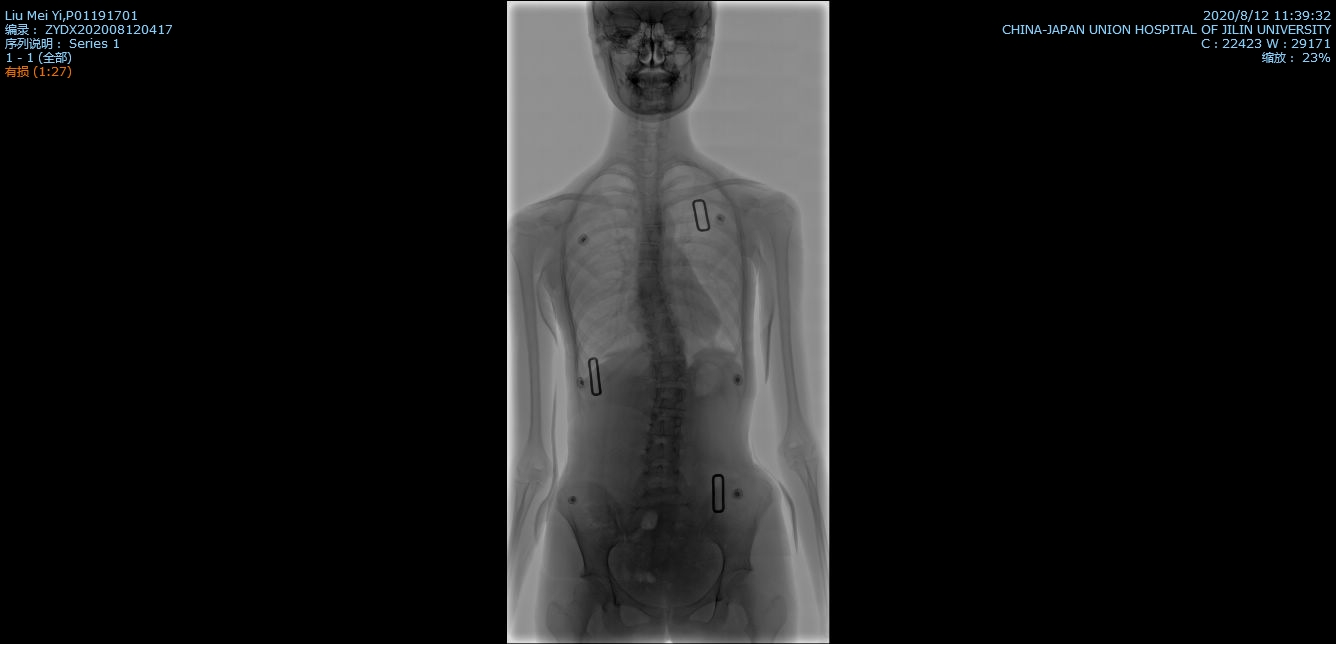Bone: (643, 470, 679, 493), (645, 442, 678, 464), (648, 415, 680, 436), (654, 362, 686, 382), (656, 387, 687, 407), (650, 341, 684, 357), (645, 320, 676, 337), (640, 300, 669, 316), (637, 263, 658, 279), (639, 226, 661, 241), (639, 283, 662, 297), (637, 246, 658, 260)
